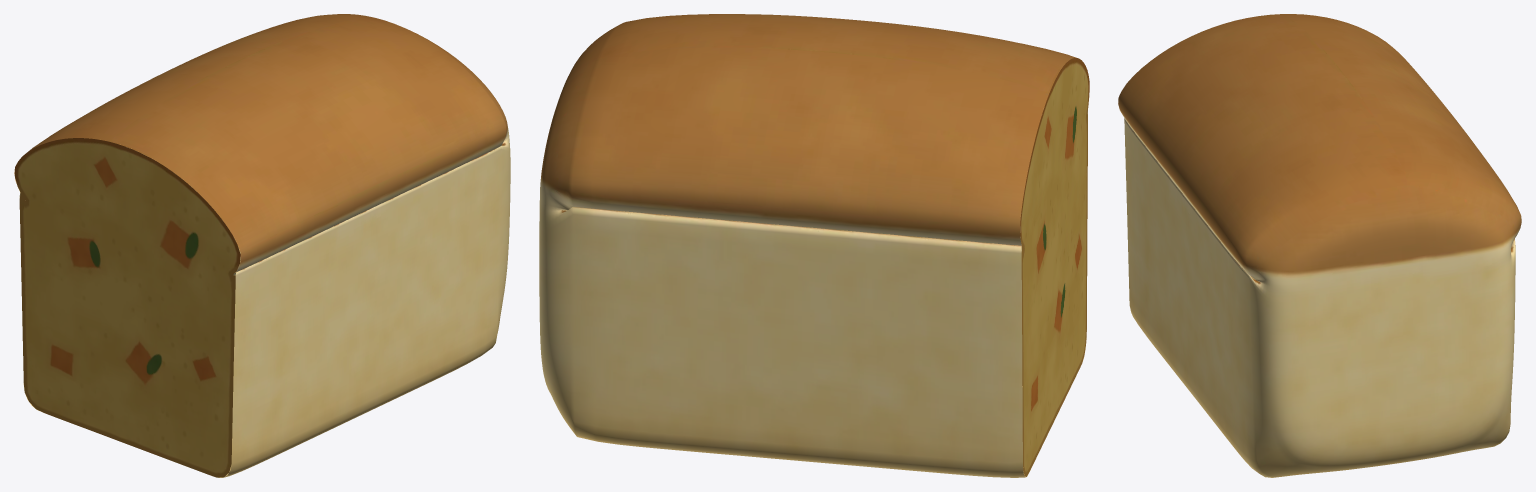
The model's file is loaf--pumpkin-puree.glb.
3 renders of one model, left to right at view 1: azimuth 30°, elevation 25°; view 2: azimuth 150°, elevation 25°; view 3: azimuth 270°, elevation 25°, orthographic. The views are drawn at different scales.
Visible parts, largest first — view 1: loaf_pumpkin-puree; view 2: loaf_pumpkin-puree; view 3: loaf_pumpkin-puree.
Part boxes in pixels (<box>): loaf_pumpkin-puree: <box>14,14,510,477</box>; loaf_pumpkin-puree: <box>539,14,1089,477</box>; loaf_pumpkin-puree: <box>1118,14,1521,477</box>.
Bounding box in the file's own units: 1.02 × 0.7199 × 0.8447.
Materials: 1 (1 with a texture image).
